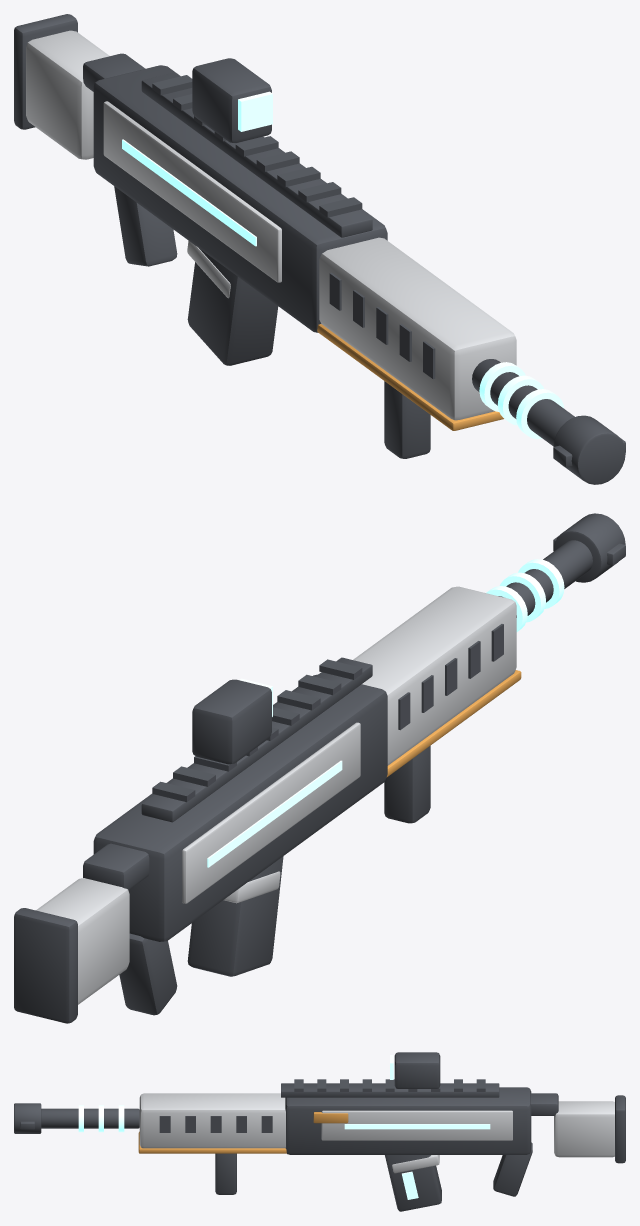
File: pulse_rifle.glb
3 renders of one model, top to bottom at view 1: azimuth 30°, elevation 25°; view 2: azimuth 150°, elevation 25°; view 3: azimuth 270°, elevation 25°, orthographic. The views are drawn at different scales.
Parts seen in each view (by area): view 1: PulseRifle; view 2: PulseRifle; view 3: PulseRifle.
Part boxes in pixels (x1=…): PulseRifle: x1=14, y1=14, x2=625, y2=484; PulseRifle: x1=14, y1=513, x2=625, y2=1023; PulseRifle: x1=14, y1=1052, x2=625, y2=1211.
Bounding box in the file's own units: 0.6 × 1.81 × 6.72.
